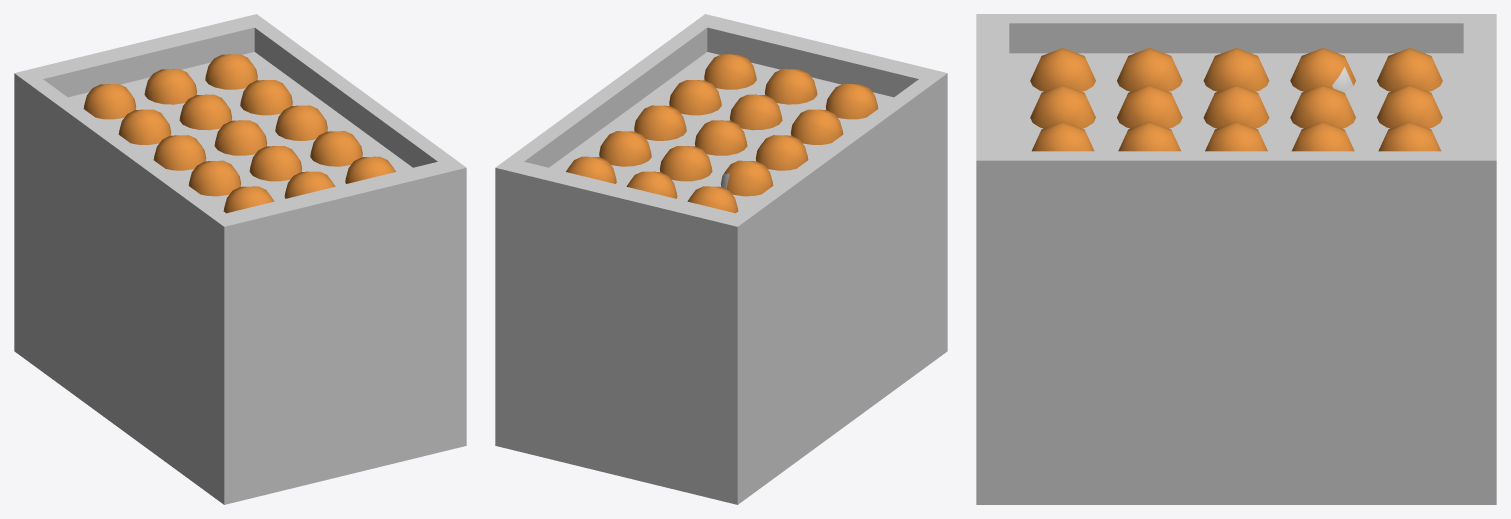
File: BulletBox.fbx
3 renders of one model, left to right at view 1: azimuth 30°, elevation 25°; view 2: azimuth 150°, elevation 25°; view 3: azimuth 270°, elevation 25°, orthographic. The views are drawn at different scales.
Visible parts, largest first — view 1: BulletBox; view 2: BulletBox; view 3: BulletBox.
Part boxes in pixels (x1,y1,x2,y2): BulletBox: (14, 14, 466, 504); BulletBox: (495, 14, 947, 504); BulletBox: (976, 14, 1496, 504).
Bounding box in the file's own units: 0.2 × 0.3 × 0.2192.
